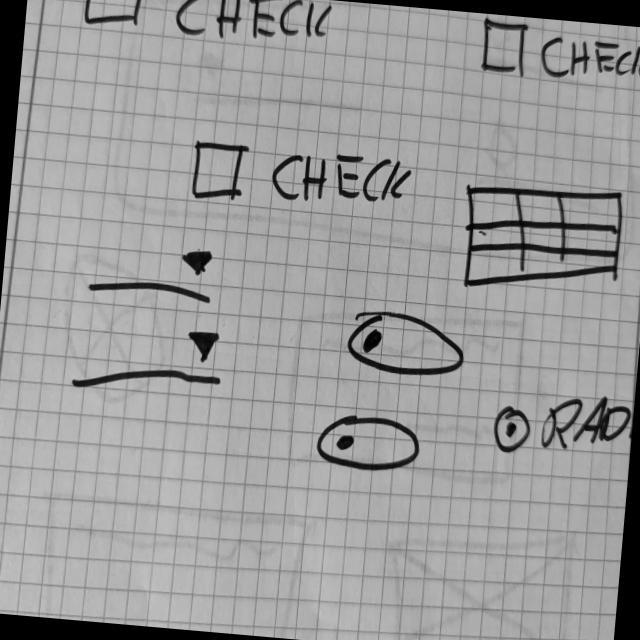checkbox: (188, 134, 416, 218), (81, 0, 335, 54), (477, 15, 640, 94)
radio: (488, 384, 634, 466)
select: (67, 316, 230, 404), (84, 232, 219, 306)
table: (456, 175, 627, 302)
toggle: (344, 303, 469, 383), (312, 407, 423, 477)
